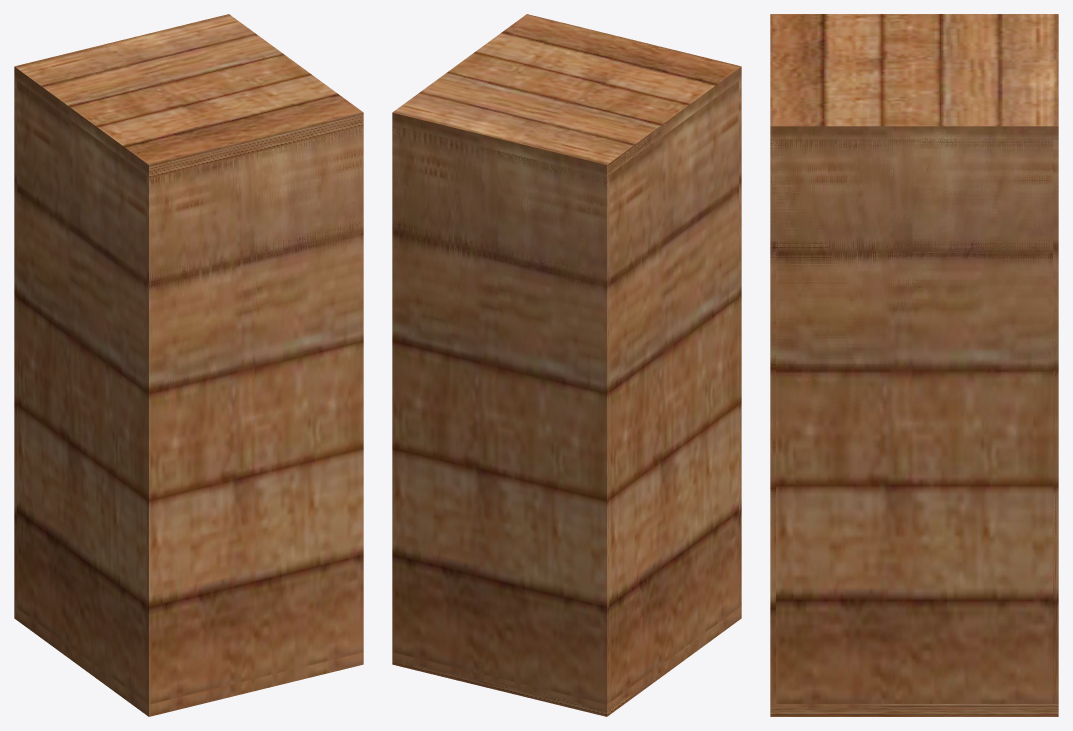
File: box for bigminer.fbx
3 renders of one model, left to right at view 1: azimuth 30°, elevation 25°; view 2: azimuth 150°, elevation 25°; view 3: azimuth 270°, elevation 25°, orthographic. The views are drawn at different scales.
Parts seen in each view (by area): view 1: Part_4, Part, Crate_ReadyMiner_Ultra, Part_3, Part_5; view 2: Part_5, Part, Crate_ReadyMiner_Ultra, Part_2, Part_4; view 3: Part_1, Crate_ReadyMiner_Ultra, Part_2, Part_5, Part_4, Part_3.
Part boxes in pixels (x1,y1,x2,y2): Part_4: (146,127,363,704); Part: (17,81,146,702); Crate_ReadyMiner_Ultra: (14,14,363,716); Part_3: (14,70,363,178); Part_5: (14,81,16,606); Part_5: (392,125,609,704); Part: (609,81,738,702); Crate_ReadyMiner_Ultra: (392,14,741,713); Part_2: (392,607,741,716); Part_4: (739,234,741,607); Part_1: (776,139,1052,703); Crate_ReadyMiner_Ultra: (770,14,1058,709); Part_2: (770,704,1058,716); Part_5: (1053,139,1058,703); Part_4: (770,139,775,618); Part_3: (770,128,1058,140).
Bounding box in the file's own units: 460 × 1130 × 500.
Materials: 1 (1 with a texture image).
